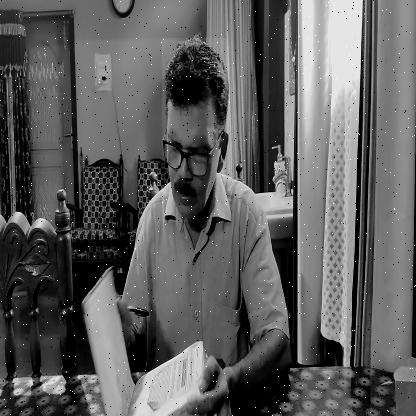Normal: (162, 38, 226, 222)
